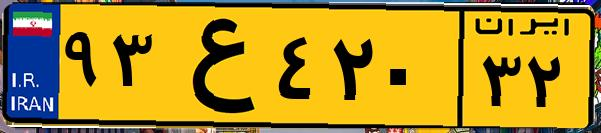0: (385, 28, 445, 110)
2: (330, 28, 385, 110), (525, 38, 570, 115)
3: (475, 38, 525, 113), (110, 28, 158, 98)
4: (270, 28, 330, 110)
9: (57, 26, 110, 100)
ع: (158, 12, 270, 120)
